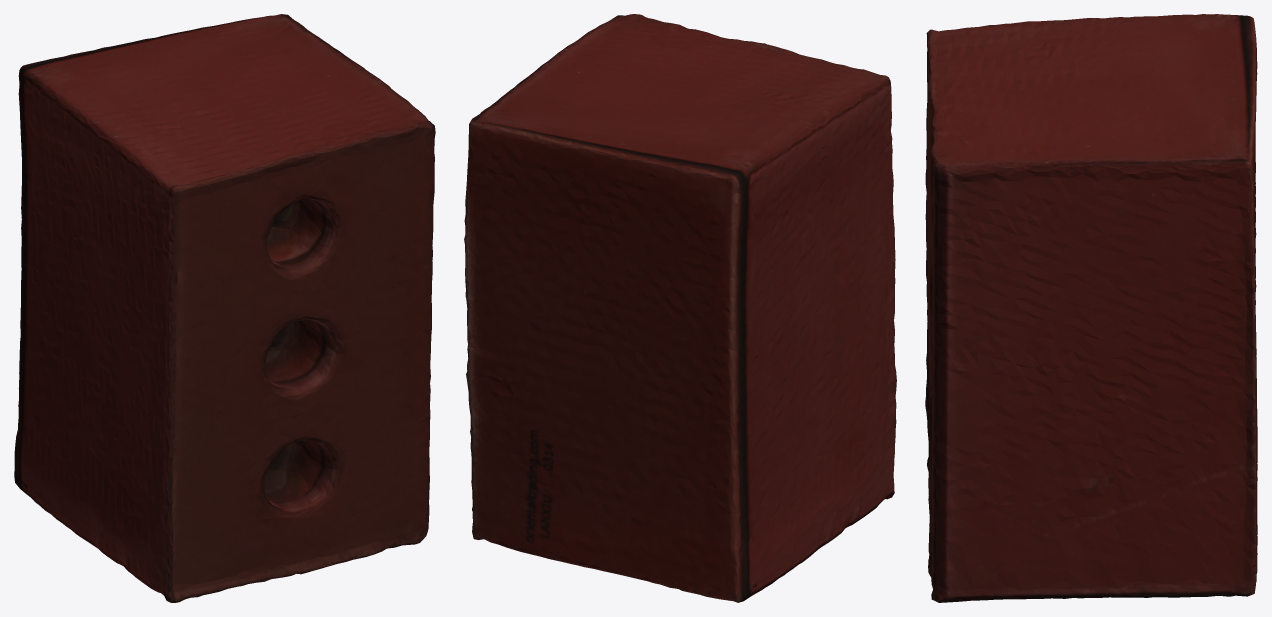
The model's file is foam.obj.
3 renders of one model, left to right at view 1: azimuth 30°, elevation 25°; view 2: azimuth 150°, elevation 25°; view 3: azimuth 270°, elevation 25°, orthographic. The views are drawn at different scales.
Visible parts, largest first — view 1: 061_foam_brick_textured.obj; view 2: 061_foam_brick_textured.obj; view 3: 061_foam_brick_textured.obj.
Part boxes in pixels (x1=…): 061_foam_brick_textured.obj: x1=14, y1=14, x2=435, y2=602; 061_foam_brick_textured.obj: x1=464, y1=14, x2=896, y2=602; 061_foam_brick_textured.obj: x1=925, y1=14, x2=1257, y2=602.
Bounding box in the file's own units: 0.0526 × 0.0779 × 0.0512.
Materials: 1 (1 with a texture image).
